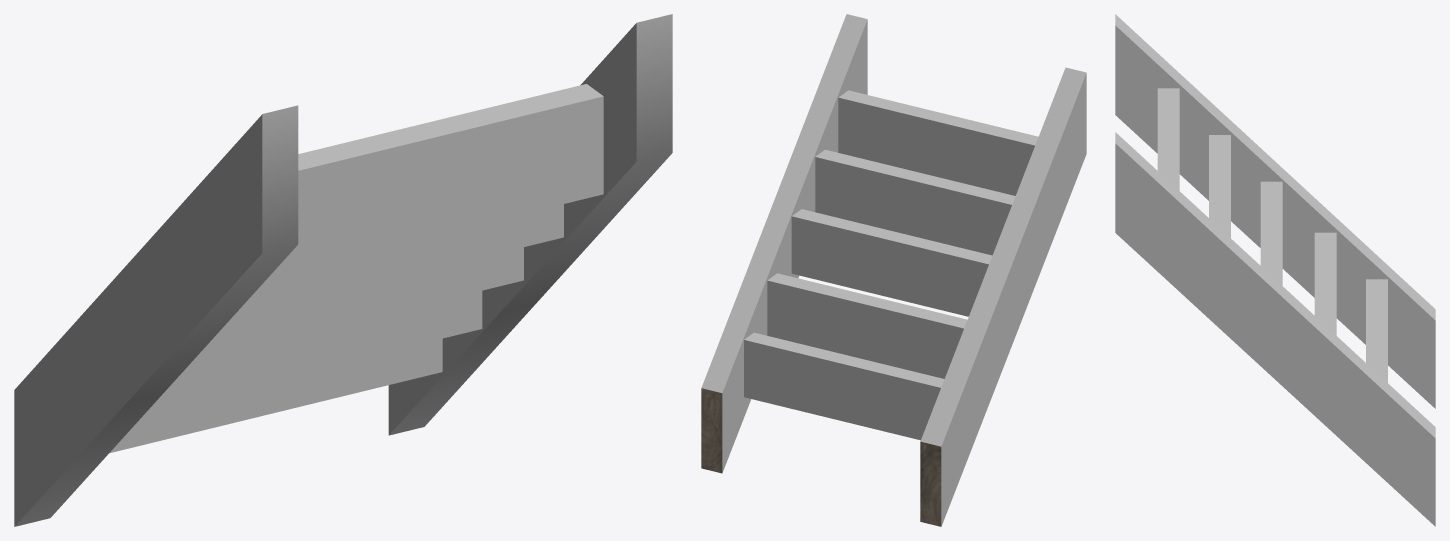
Rendered from Platform_Stairs_B.fbx.
3 views of the same model, side by side, from view 1: azimuth 30°, elevation 25°; view 2: azimuth 150°, elevation 25°; view 3: azimuth 270°, elevation 25° (orthographic). The views are drawn at different scales.
Parts seen in each view (by area): view 1: Platform_Stairs_B; view 2: Platform_Stairs_B; view 3: Platform_Stairs_B.
Part boxes in pixels (left/top/right/bottom): Platform_Stairs_B: left=14, top=14, right=672, bottom=526; Platform_Stairs_B: left=701, top=14, right=1086, bottom=526; Platform_Stairs_B: left=1115, top=14, right=1435, bottom=526.
Size of the model in its own units: 1.46 by 2.03 by 1.53.
